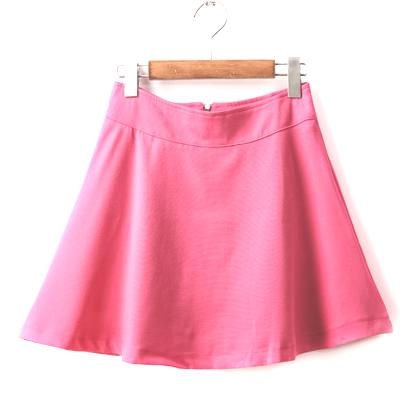jacket: (16, 78, 396, 378)
